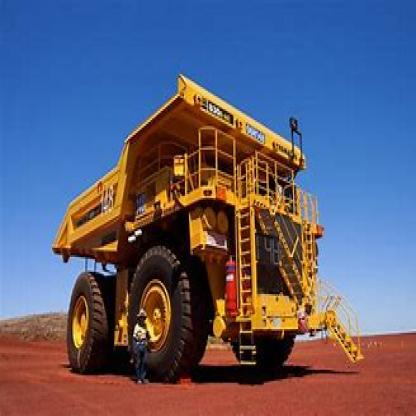dump_truck: (51, 66, 360, 376)
